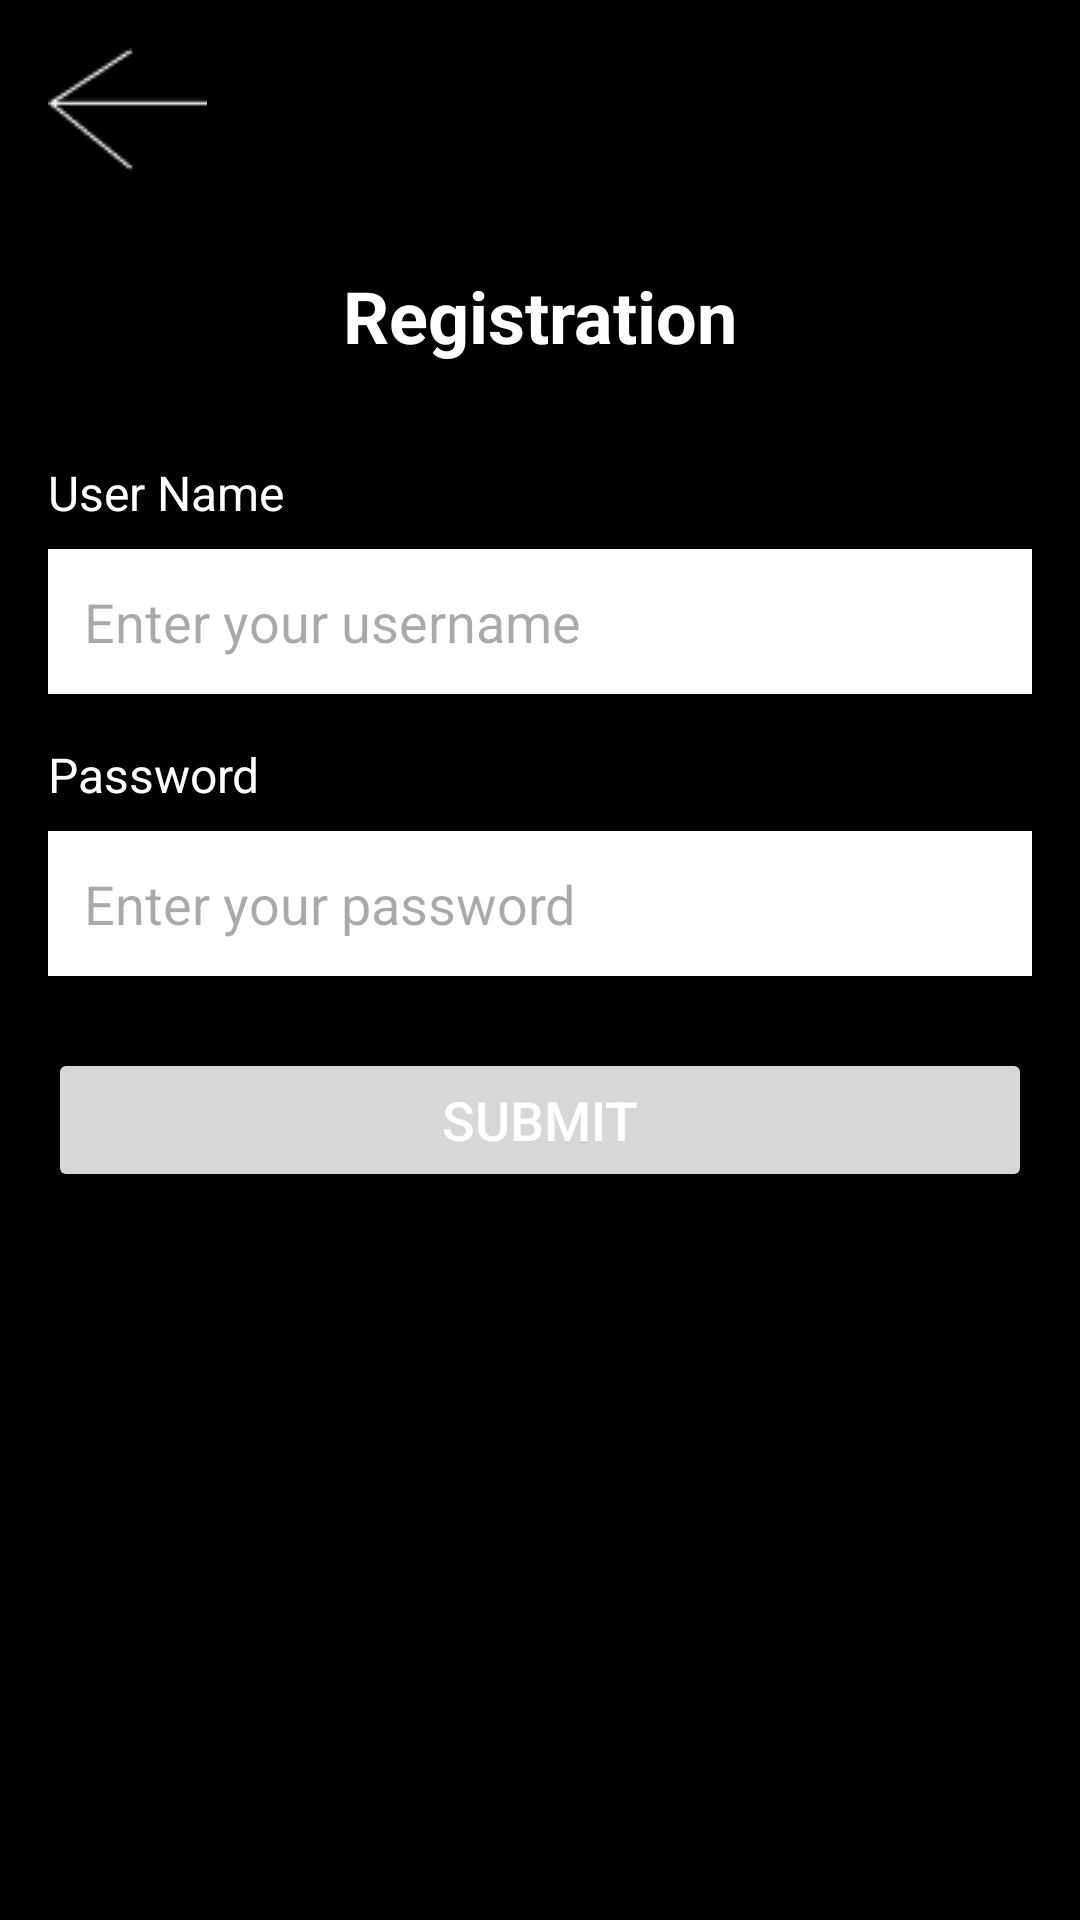

Icon bounding boxes for this 1080x1920 phone screenshot, format (x1, y1, x2, y2):
Back: (48, 48, 207, 171)
